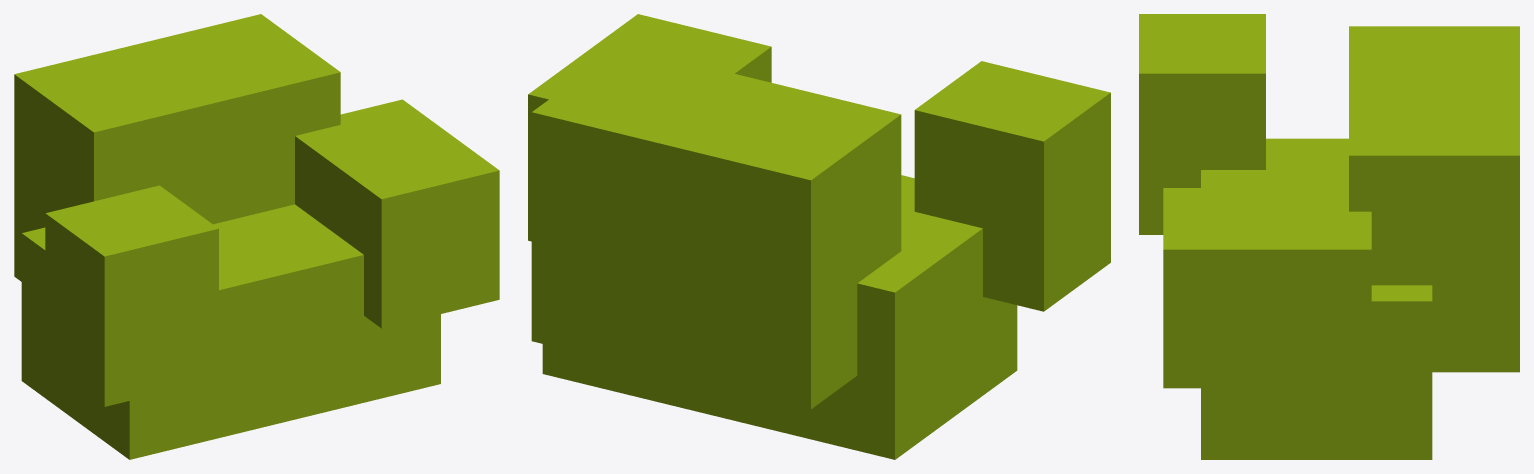
Rendered from bush.obj.
3 renders of one model, left to right at view 1: azimuth 30°, elevation 25°; view 2: azimuth 150°, elevation 25°; view 3: azimuth 270°, elevation 25°, orthographic. The views are drawn at different scales.
Visible parts, largest first — view 1: Cube; view 2: Cube; view 3: Cube.
Boxes of the visible parts, box(x1,y1,x2,y2) form: Cube: box(14, 14, 499, 459); Cube: box(528, 14, 1110, 459); Cube: box(1139, 14, 1519, 459).
Size of the model in its own units: 0.8283 by 0.5234 by 0.6268.
